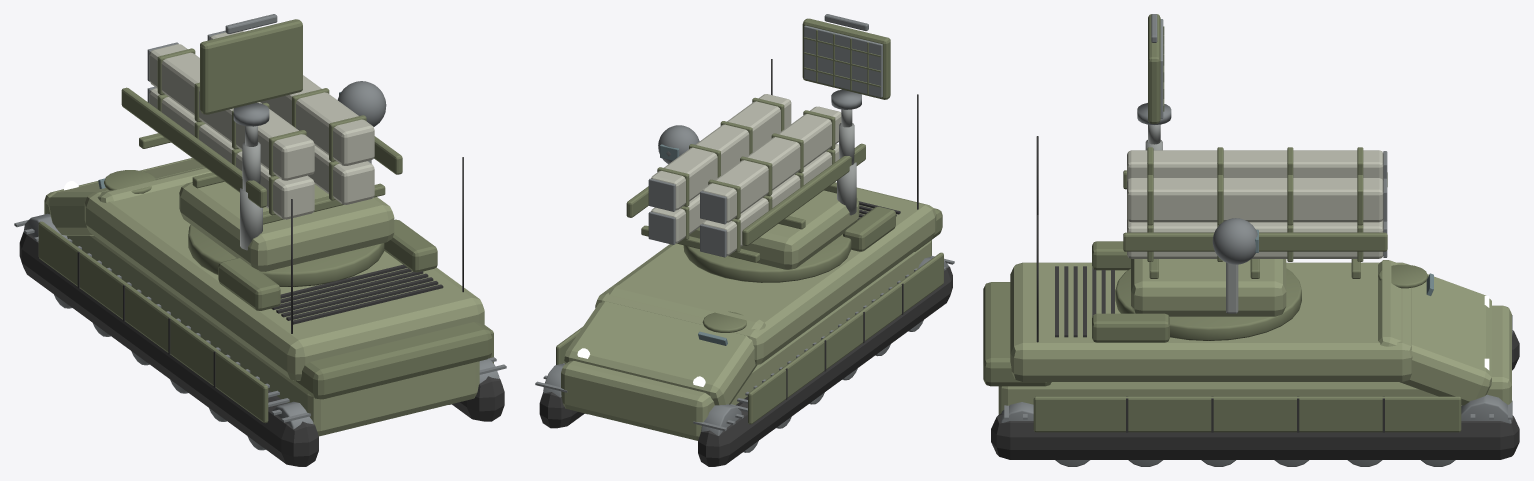
File: sys_hisara.glb
3 views of the same model, side by side, from view 1: azimuth 30°, elevation 25°; view 2: azimuth 150°, elevation 25°; view 3: azimuth 270°, elevation 25° (orthographic). The views are drawn at different scales.
Parts seen in each view (by area): view 1: Cube.001, Cube, Cube.086, Cube.040, Cube.011, Cube.118, Cube.003, Cube.106, Cube.112, Cylinder.033, Cube.002, Cube.094 (+21 smaller); view 2: Cube.001, Cube.002, Cube, Cube.040, Cube.011, Cube.106, Cube.112, Cube.086, Cube.119, Cylinder.033, Cube.089, Cube.094 (+16 smaller); view 3: Cube.001, Cube.048, Cube.077, Cube.112, Cube.002, Cube, Cube.086, Cube.106, Cube.090, Cube.100, Cylinder.033, Cube.003 (+7 smaller).
Boxes of the visible parts, x1,y1,x2,y2 form: Cube.001: [84, 166, 484, 380]; Cube: [44, 158, 479, 436]; Cube.086: [179, 181, 394, 271]; Cube.040: [38, 221, 268, 422]; Cube.011: [19, 232, 318, 466]; Cube.118: [200, 19, 302, 114]; Cube.003: [285, 322, 492, 399]; Cube.106: [149, 44, 314, 180]; Cube.112: [209, 31, 374, 165]; Cylinder.033: [188, 225, 384, 286]; Cube.002: [48, 159, 211, 235]; Cube.094: [149, 88, 314, 219]; Cube.001: [595, 182, 936, 364]; Cube.002: [564, 285, 765, 405]; Cube: [561, 240, 931, 440]; Cube.040: [748, 252, 943, 424]; Cube.011: [698, 266, 952, 466]; Cube.106: [702, 106, 841, 222]; Cube.112: [651, 94, 791, 210]; Cube.086: [689, 190, 859, 269]; Cube.119: [804, 25, 882, 97]; Cylinder.033: [683, 234, 851, 282]; Cube.089: [742, 143, 865, 245]; Cube.094: [702, 144, 838, 255]; Cube.001: [1010, 262, 1412, 381]; Cube.048: [991, 414, 1519, 459]; Cube.077: [1033, 396, 1461, 432]; Cube.112: [1127, 178, 1383, 222]; Cube.002: [1378, 260, 1491, 405]; Cube: [998, 305, 1511, 414]; Cube.086: [1131, 259, 1286, 316]; Cube.106: [1127, 150, 1383, 181]; Cube.090: [1123, 232, 1387, 251]; Cube.100: [1127, 218, 1383, 258]; Cylinder.033: [1115, 268, 1301, 340]; Cube.003: [983, 282, 1051, 386].
Size of what is drawn, in the model's own units: 3.25 by 5.19 by 6.9.
